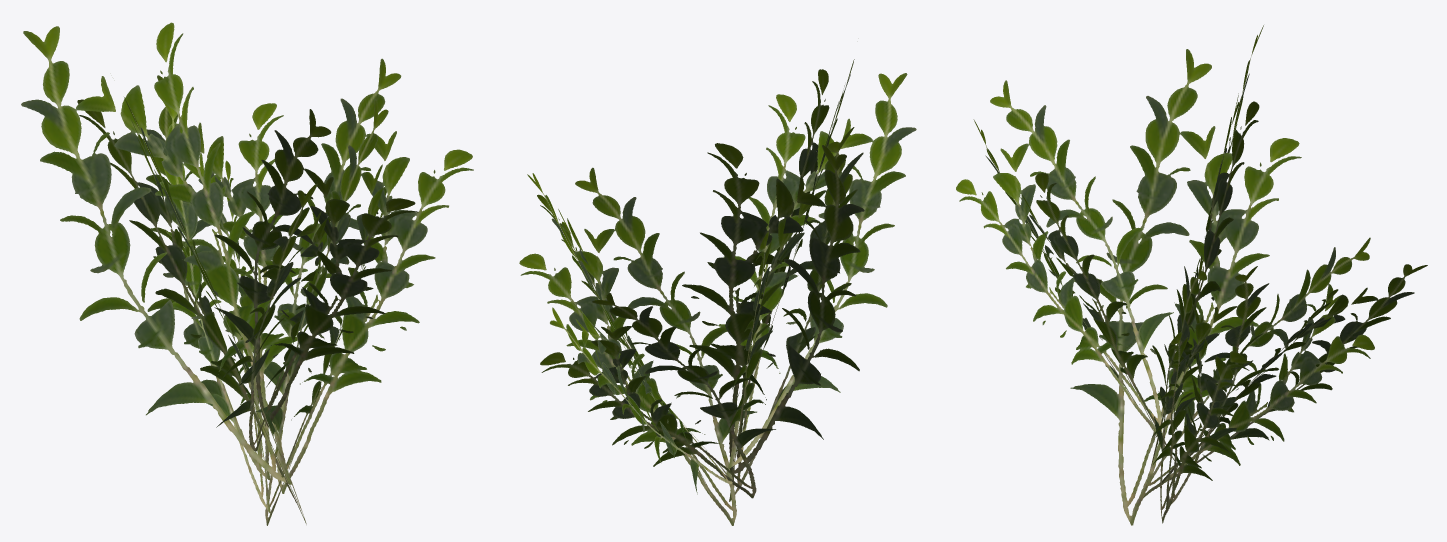
The model's file is W_shrub_L1.fbx.
The picture shows the model from 3 angles, left to right: view 1: azimuth 30°, elevation 25°; view 2: azimuth 150°, elevation 25°; view 3: azimuth 270°, elevation 25°; orthographic projection. The views are drawn at different scales.
Parts seen in each view (by area): view 1: W_shrub_L1; view 2: W_shrub_L1; view 3: W_shrub_L1.
Boxes of the visible parts, bbox=[...] form: W_shrub_L1: bbox=[21, 22, 473, 525]; W_shrub_L1: bbox=[519, 59, 916, 525]; W_shrub_L1: bbox=[956, 25, 1427, 525].
Size of the model in its own units: 0.5828 by 0.6766 by 0.6807.
